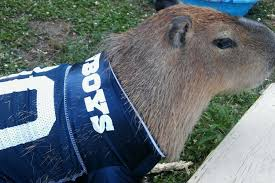capivara: (98, 3, 275, 155)
